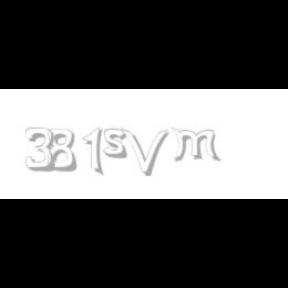1: (82, 128, 104, 176)
3: (25, 128, 56, 172)
8: (48, 128, 76, 172)
V: (121, 128, 169, 176)
m: (170, 128, 222, 162)
s: (103, 128, 131, 160)
